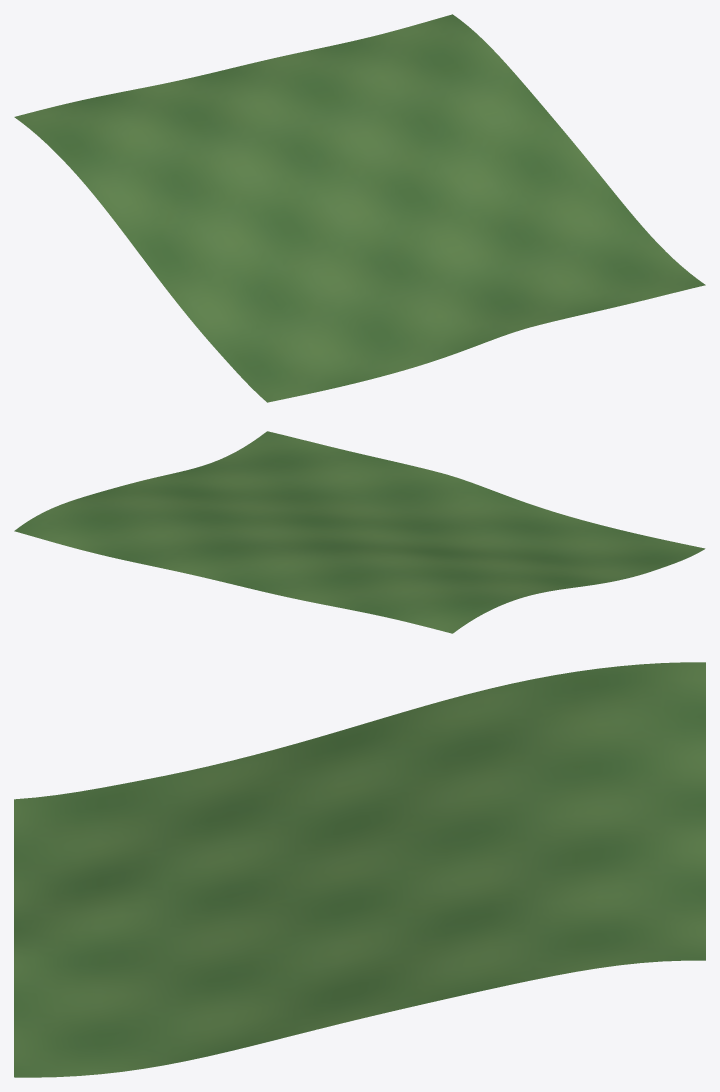
Rendered from chunk_1_0.glb.
3 renders of one model, top to bottom at view 1: azimuth 30°, elevation 25°; view 2: azimuth 150°, elevation 25°; view 3: azimuth 270°, elevation 25°, orthographic. The views are drawn at different scales.
Bounding box in the file's own units: 512 × 115 × 512.
